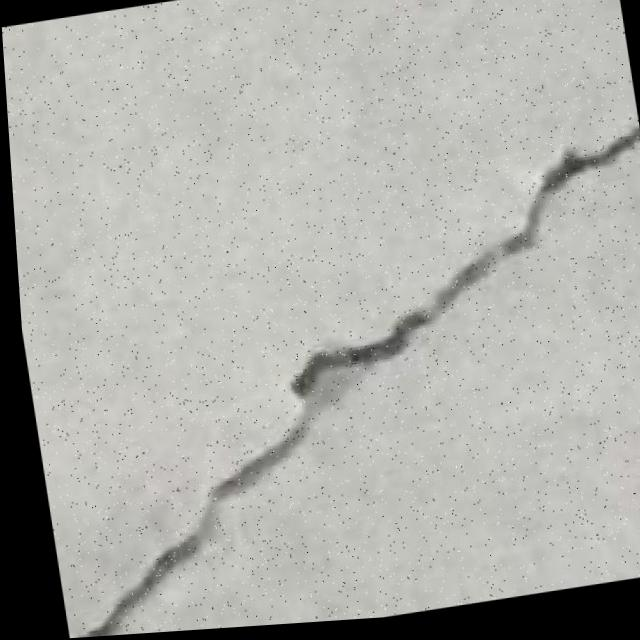Crack: (9, 129, 640, 640)
